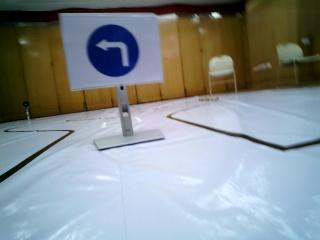left: (66, 19, 153, 80)
